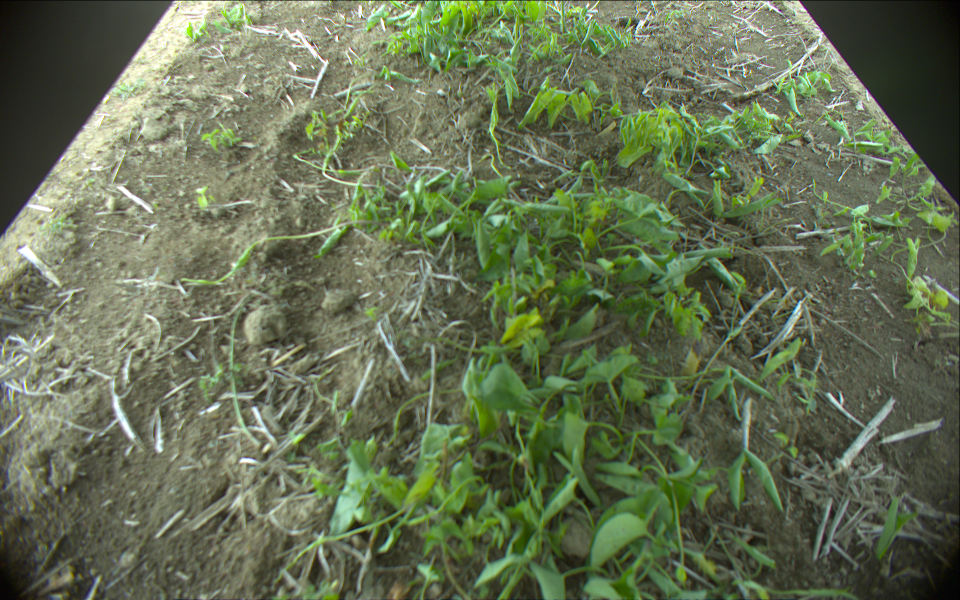aspa: (559, 1, 566, 33)
